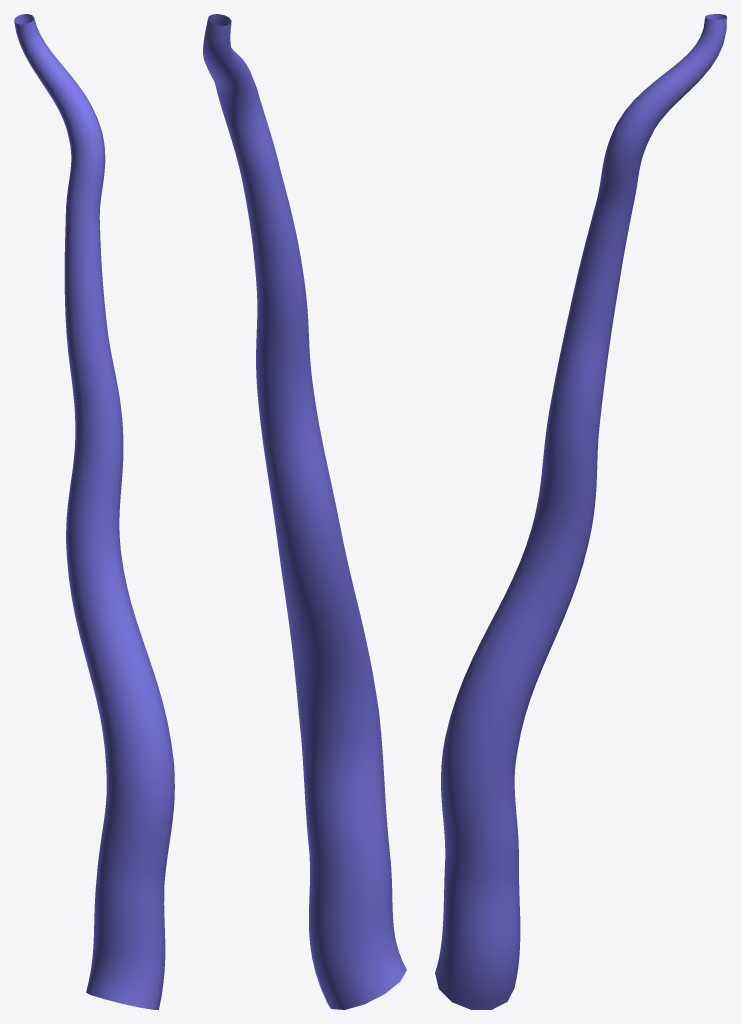
The model's file is Left_internal_jugular_vein.glb.
3 views of the same model, side by side, from view 1: azimuth 30°, elevation 25°; view 2: azimuth 150°, elevation 25°; view 3: azimuth 270°, elevation 25° (orthographic). The views are drawn at different scales.
Visible parts, largest first — view 1: Left_iternal_jugular_vein_BezierCurve.470; view 2: Left_iternal_jugular_vein_BezierCurve.470; view 3: Left_iternal_jugular_vein_BezierCurve.470.
Boxes of the visible parts, x1,y1,x2,y2 form: Left_iternal_jugular_vein_BezierCurve.470: (14,14,174,1009); Left_iternal_jugular_vein_BezierCurve.470: (203,14,406,1009); Left_iternal_jugular_vein_BezierCurve.470: (435,14,726,1009).
Bounding box in the file's own units: 0.0138 × 0.1478 × 0.0396.
